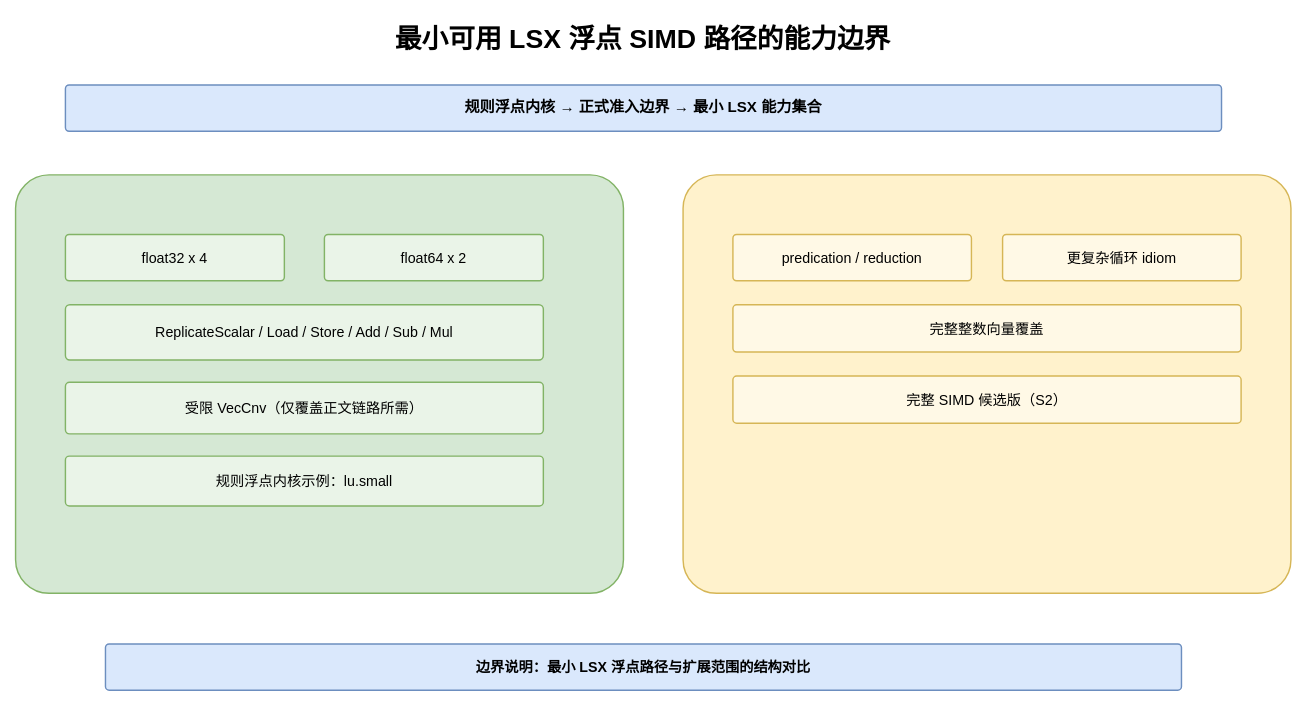
Image size: 1307x706. Some labels were removed from this diagram. The box of each missing label's shape, as (x1, y1, x2, y2) in pixels:
扩展范围（完整覆盖候选）: (682, 174, 1291, 593)
正文范围（最小路径）: (14, 174, 624, 593)
